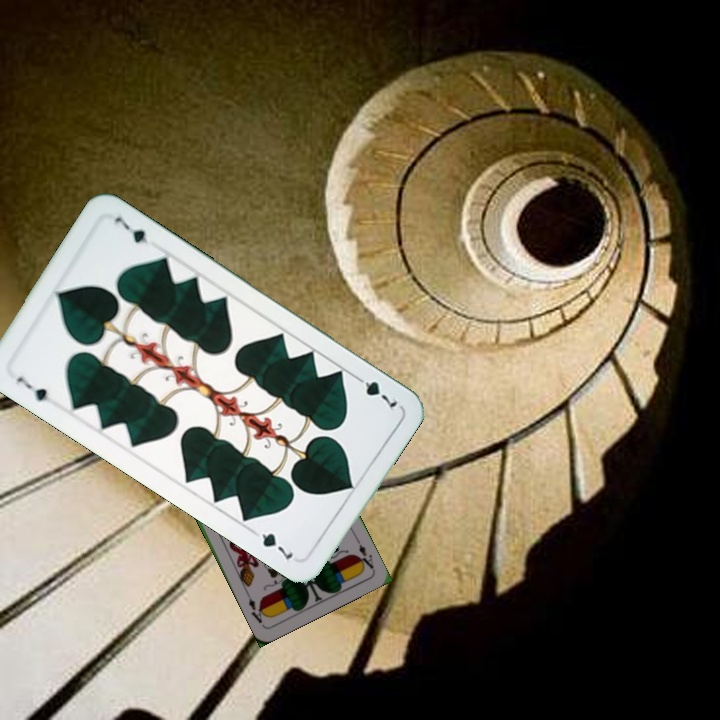EA: (352, 535, 377, 572)
G7: (349, 370, 401, 410), (12, 372, 56, 408)
